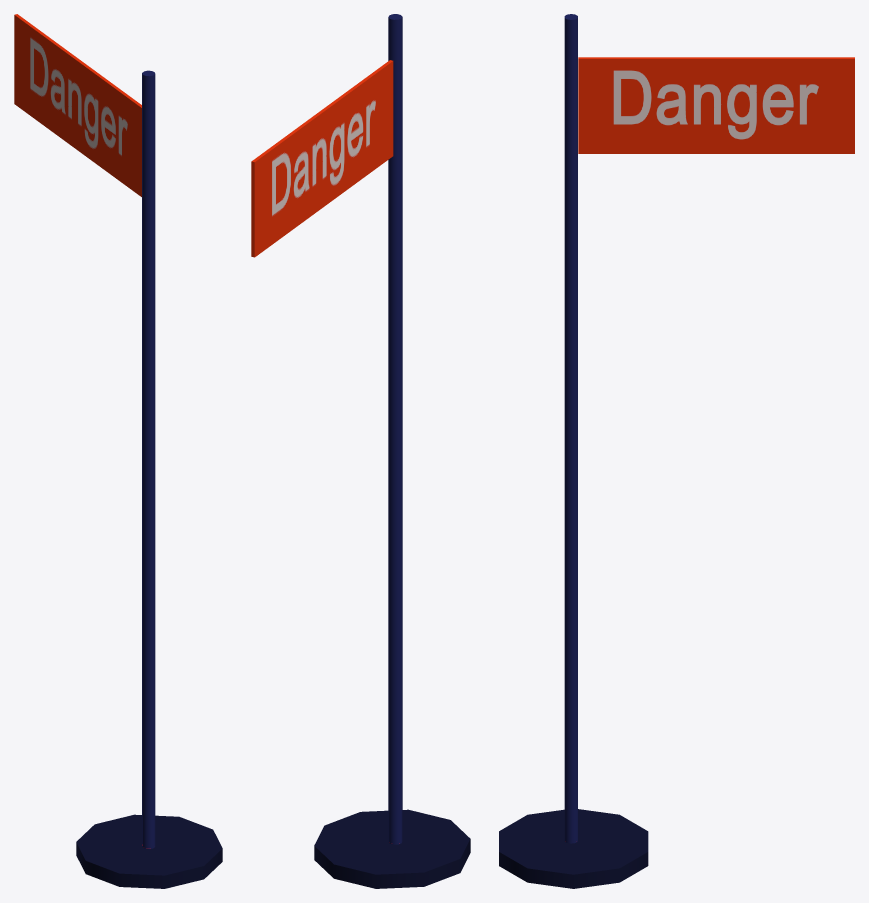
The model's file is danger_01.FBX.
3 views of the same model, side by side, from view 1: azimuth 30°, elevation 25°; view 2: azimuth 150°, elevation 25°; view 3: azimuth 270°, elevation 25° (orthographic). The views are drawn at different scales.
Visible parts, largest first — view 1: Box01, Cylinder02, Cylinder01; view 2: Box01, Cylinder02, Cylinder01; view 3: Box01, Cylinder02, Cylinder01.
Part boxes in pixels (bbox=[...]): Box01: bbox=[14, 14, 141, 196]; Cylinder02: bbox=[142, 70, 155, 848]; Cylinder01: bbox=[76, 814, 222, 888]; Box01: bbox=[251, 60, 393, 257]; Cylinder02: bbox=[388, 14, 402, 844]; Cylinder01: bbox=[314, 809, 470, 888]; Box01: bbox=[578, 57, 854, 153]; Cylinder02: bbox=[564, 14, 577, 843]; Cylinder01: bbox=[499, 809, 648, 888].
Size of the model in its own units: 13.82 by 81.44 by 31.35.
1 material, 1 textured.
